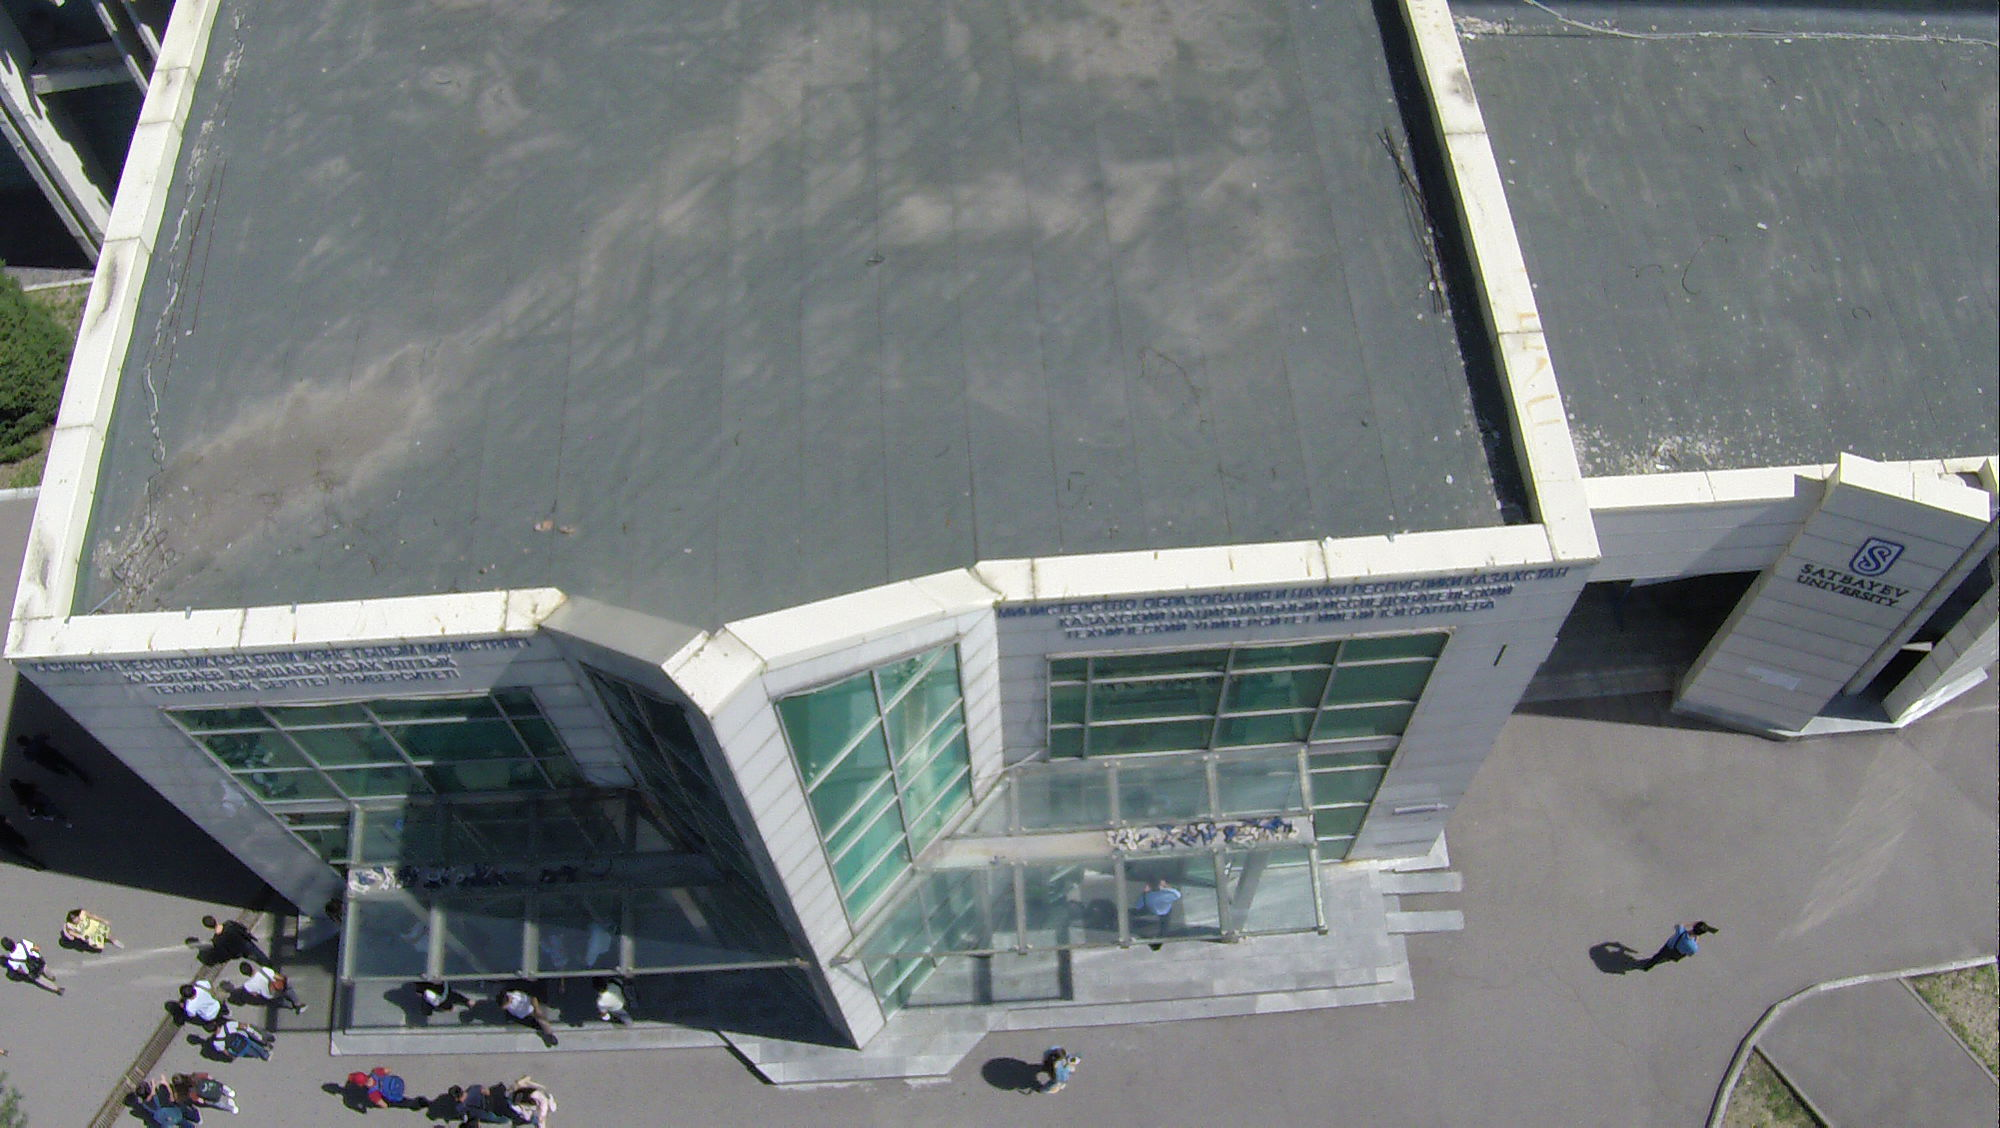person: (340, 1065, 431, 1112), (1648, 919, 1716, 981), (16, 730, 91, 784), (1, 936, 65, 997), (1131, 878, 1184, 949), (200, 909, 272, 963), (169, 1070, 246, 1119), (238, 964, 306, 1015), (59, 906, 127, 954), (1, 778, 76, 820), (1027, 1041, 1083, 1098), (501, 990, 556, 1047), (121, 1080, 179, 1128), (175, 976, 227, 1023), (206, 1026, 273, 1063), (410, 983, 475, 1019), (448, 1083, 498, 1128), (507, 1083, 553, 1128), (593, 982, 640, 1024)
